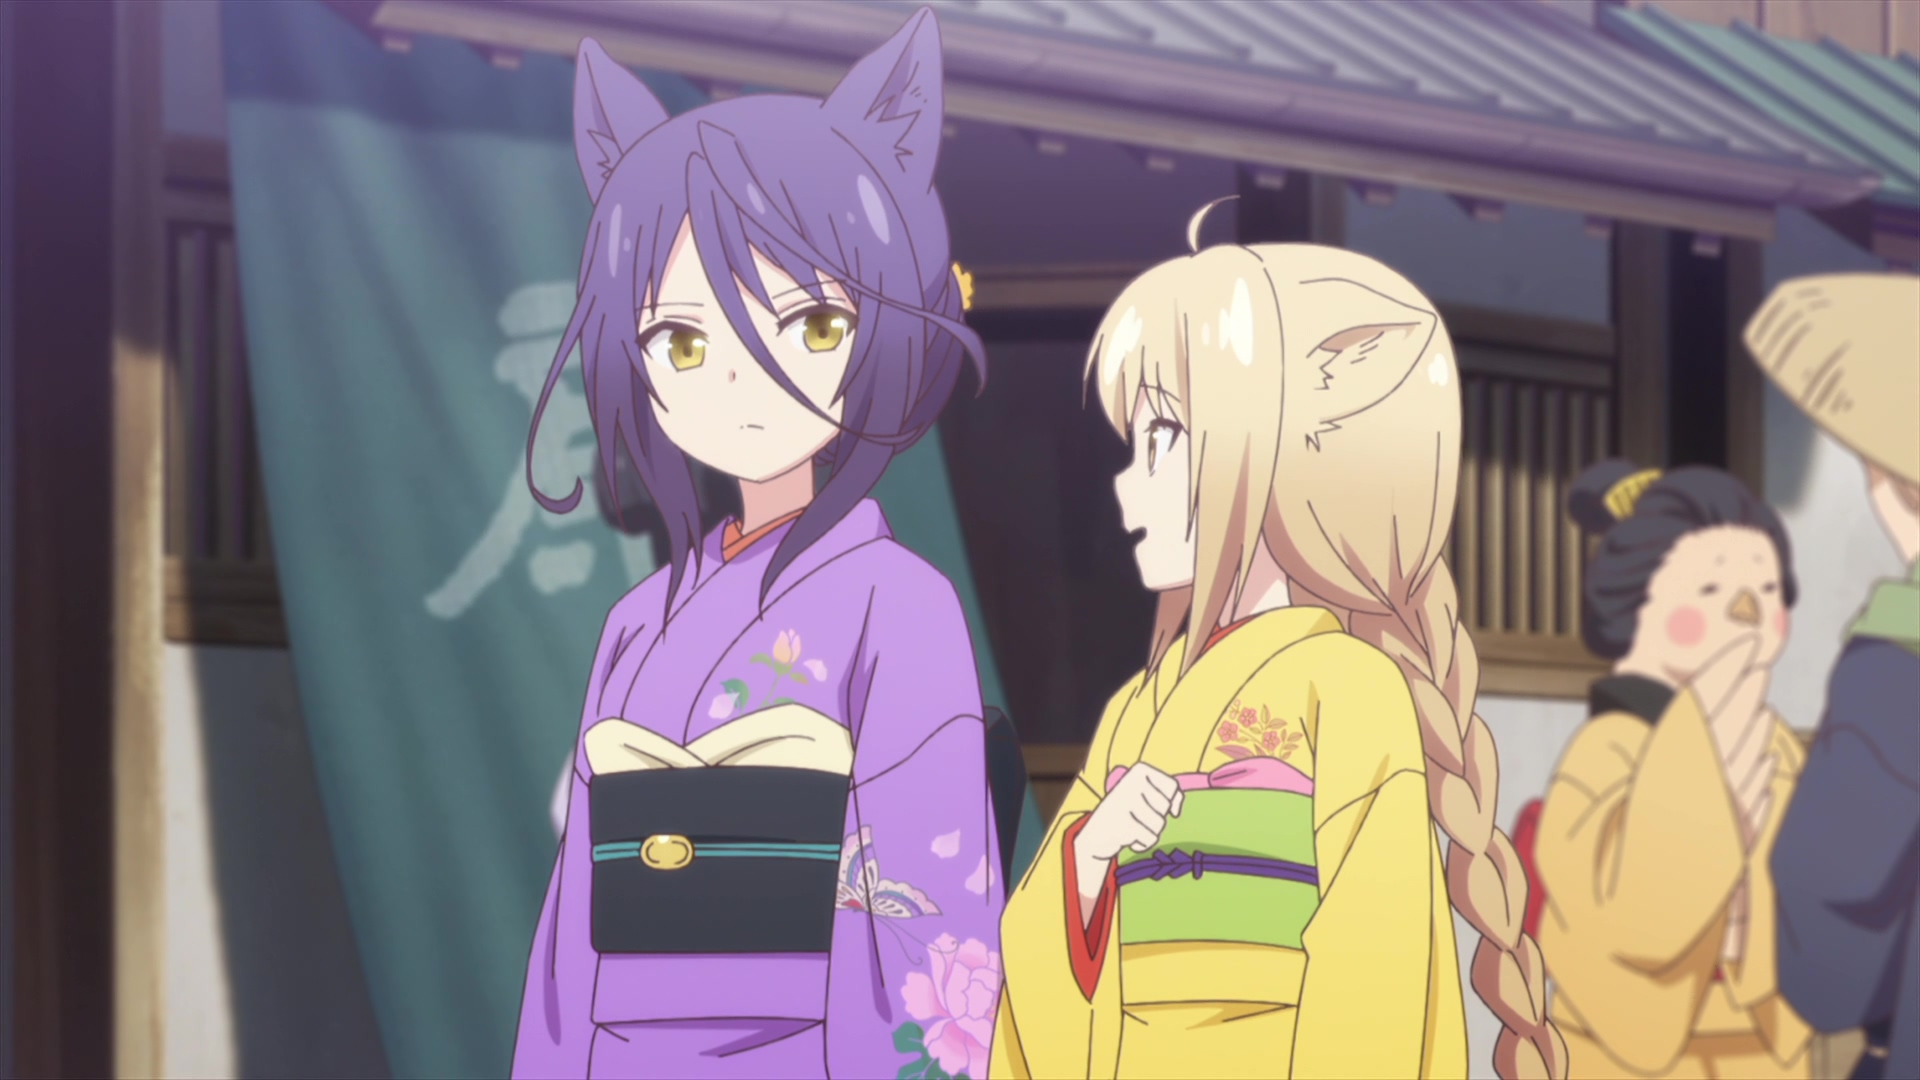其他: (1510, 454, 1809, 1080), (1741, 272, 1920, 1080)
柚: (986, 194, 1571, 1080)
皋: (508, 1, 1004, 1080)
